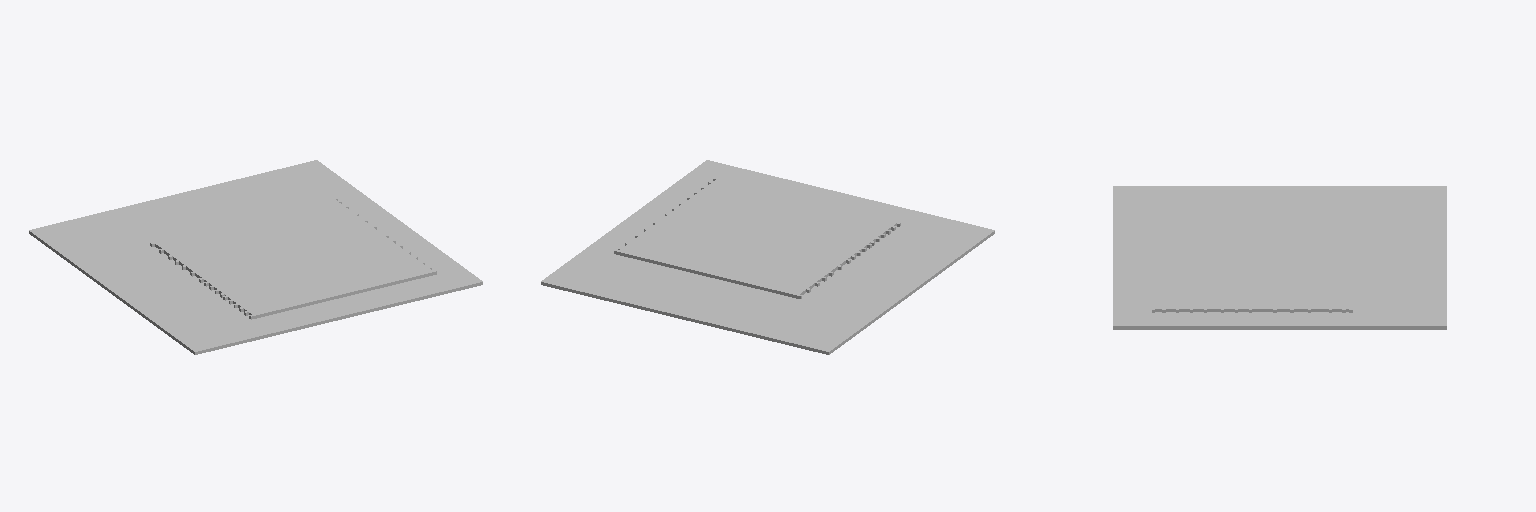
The model's file is tile suelo alfombra.obj.
3 renders of one model, left to right at view 1: azimuth 30°, elevation 25°; view 2: azimuth 150°, elevation 25°; view 3: azimuth 270°, elevation 25°, orthographic.
Visible parts, largest first — view 1: object 1; view 2: object 1; view 3: object 1.
Part boxes in pixels (x1,y1,x2,y2): object 1: (29,160,482,354); object 1: (541,160,994,354); object 1: (1113,186,1446,329).
Size of the model in its own units: 9.6 by 0.2 by 9.6.